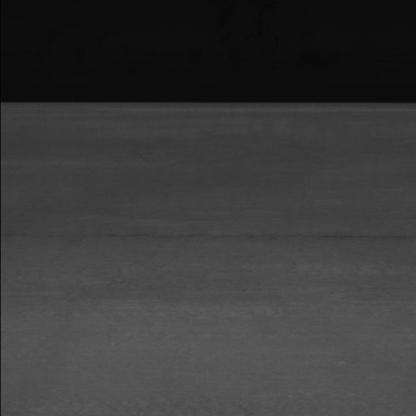water_spot: (49, 222, 416, 244)
